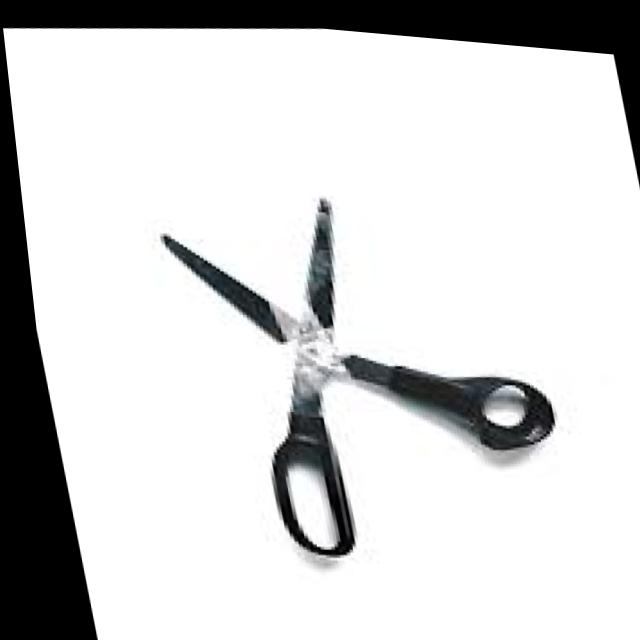scissor: (141, 160, 577, 587)
